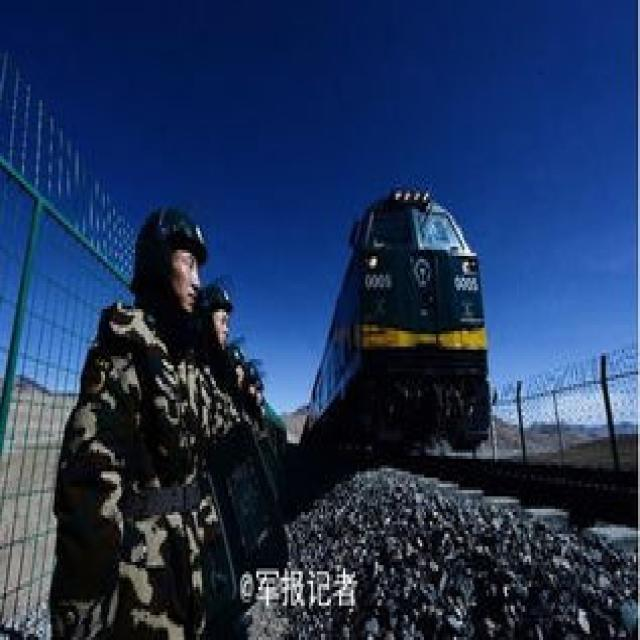10-: (42, 184, 327, 637)
